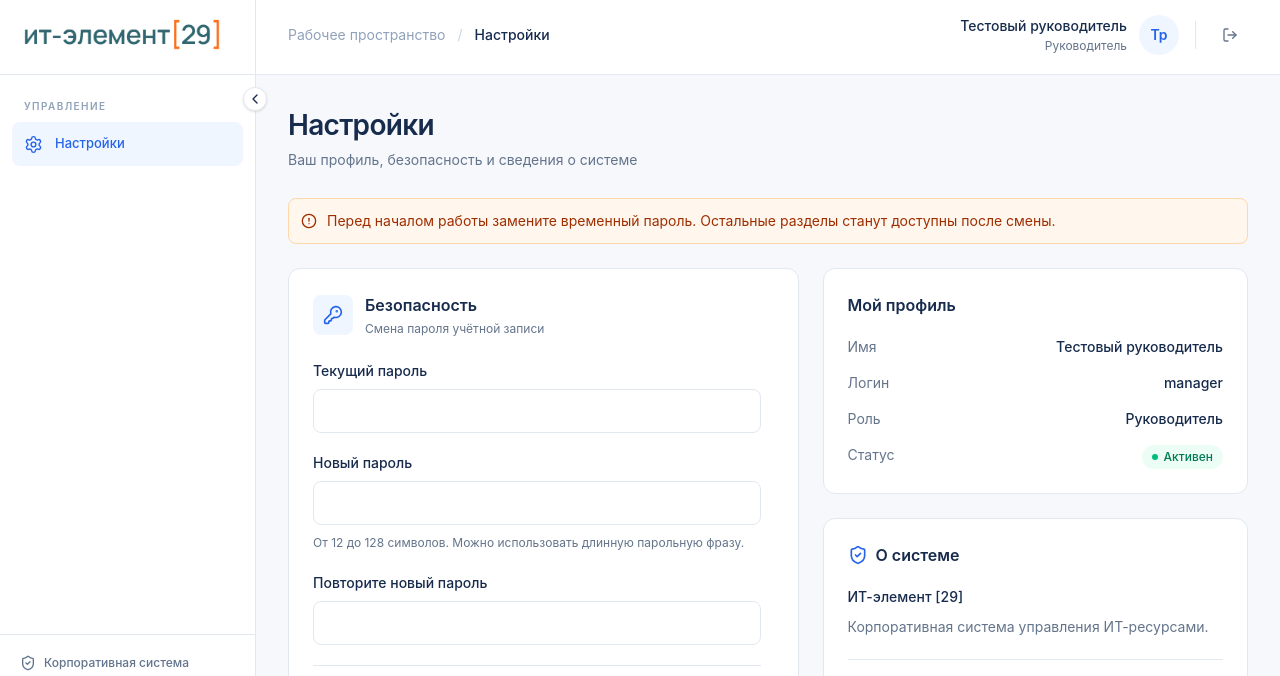
Авторизация и интерфейс › обязательная смена пароля ведёт в настройки и позволяет сменить пароль
This screenshot has width=1280, height=676.
Expected: the heading "Настройки" is shown, [288, 108, 434, 142]
Type "old-password-test" into the password field labelled "Текущий пароль" at (537, 411), box [313, 389, 761, 433]
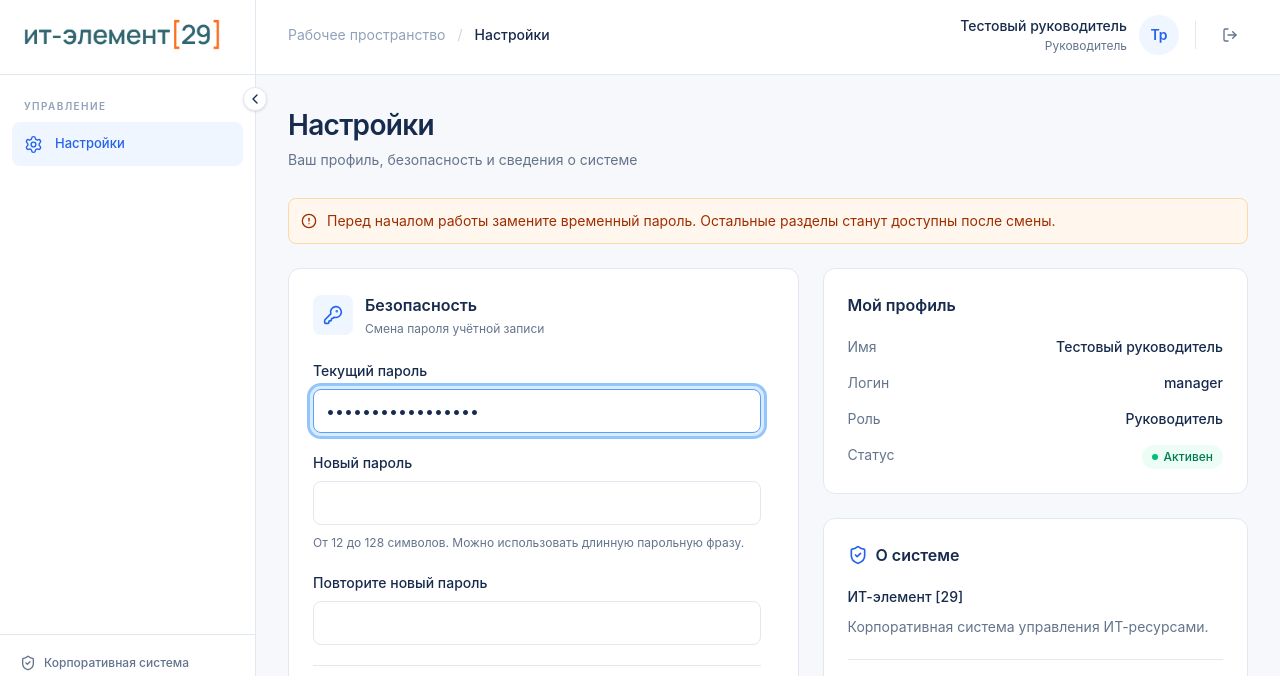
Type "new-password-test" into the password field labelled "Новый пароль" at (537, 503), box [313, 481, 761, 525]
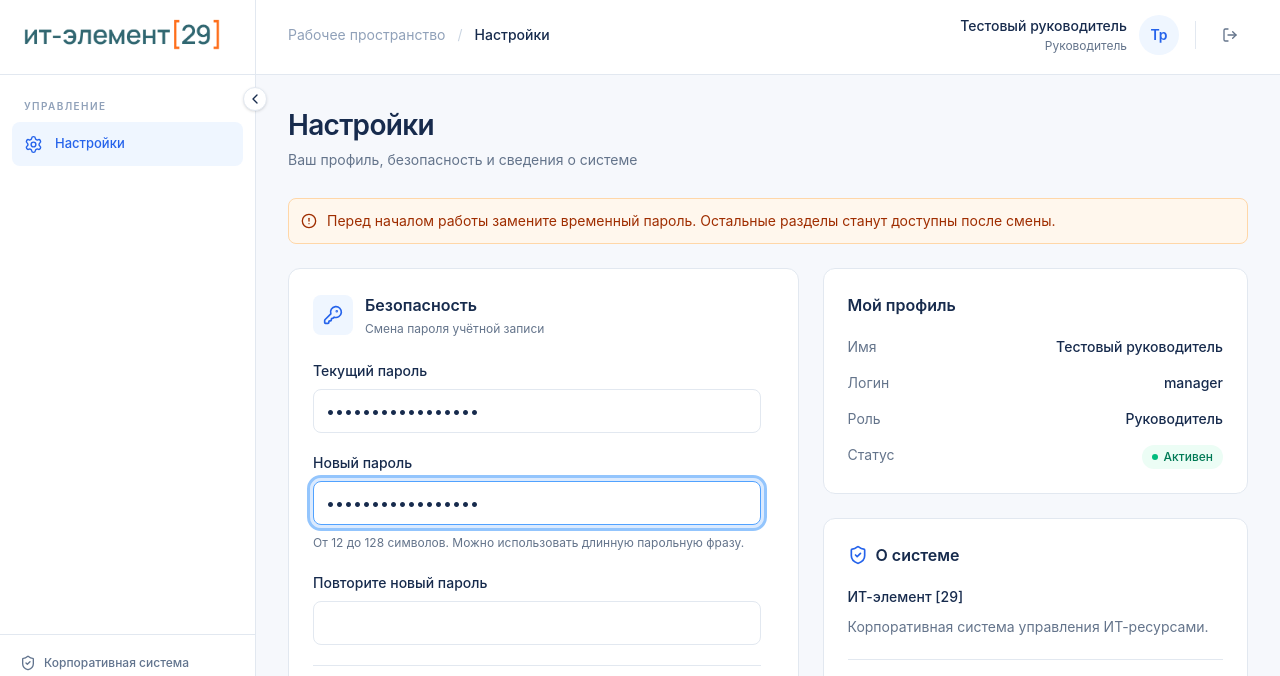
Type "new-password-test" into the password field labelled "Повторите новый пароль" at (537, 623), box [313, 601, 761, 645]
(page scrolled)
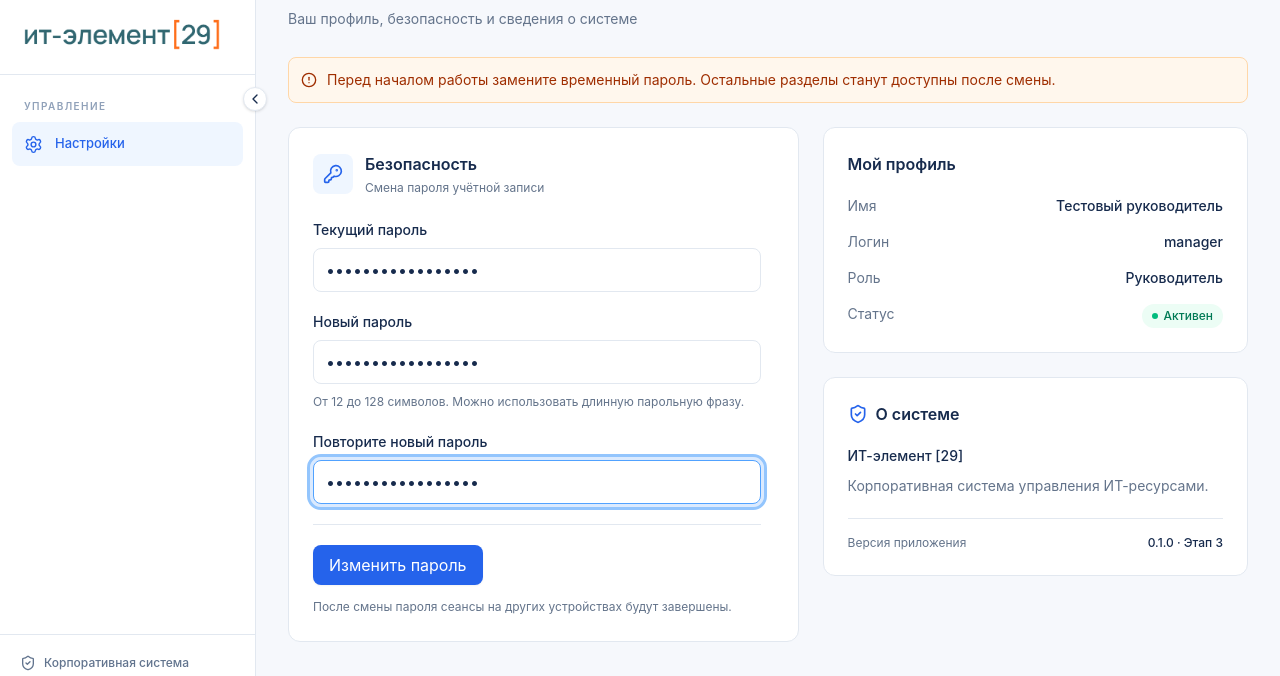
Click the button "Изменить пароль" at (398, 565), box [313, 545, 482, 585]
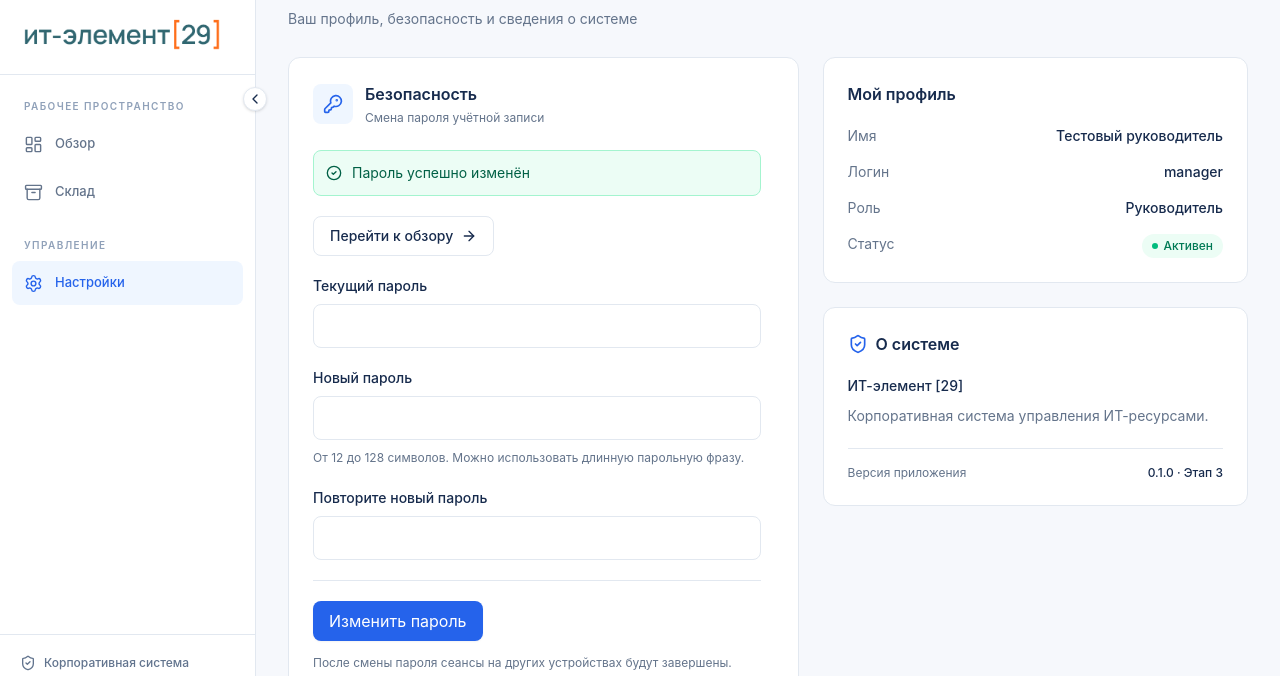
Result: the text "Пароль успешно изменён" is shown at [313, 150, 761, 196]
